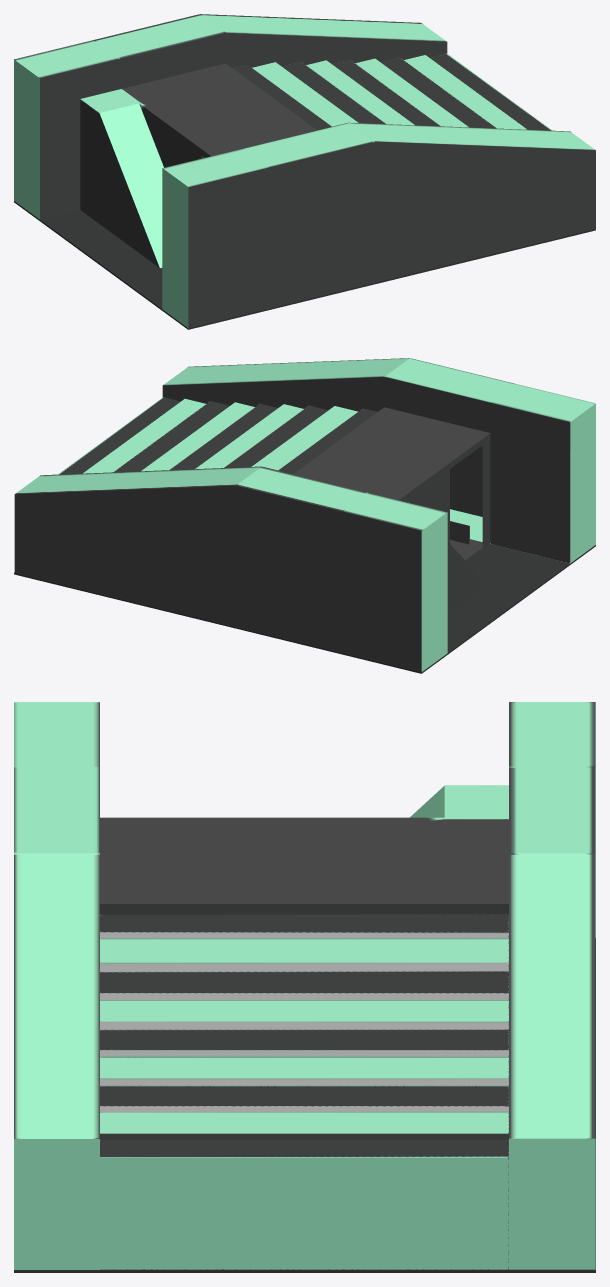
The model's file is Stage_ver2.fbx.
The picture shows the model from 3 angles, top to bottom: view 1: azimuth 30°, elevation 25°; view 2: azimuth 150°, elevation 25°; view 3: azimuth 270°, elevation 25°; orthographic projection. The views are drawn at different scales.
Visible parts, largest first — view 1: Cube, Cube.002, Floor; view 2: Cube, Cube.002, Floor; view 3: Cube.002, Cube, Floor.
Boxes of the visible parts, left/top/right/bottom form: Cube: left=14, top=14, right=595, bottom=328; Cube.002: left=232, top=53, right=551, bottom=130; Floor: left=14, top=201, right=595, bottom=329; Cube: left=14, top=358, right=595, bottom=671; Cube.002: left=58, top=397, right=377, bottom=474; Floor: left=14, top=544, right=595, bottom=673; Cube.002: left=100, top=914, right=508, bottom=1269; Cube: left=14, top=702, right=595, bottom=1269; Floor: left=14, top=938, right=595, bottom=1272.
Bounding box in the file's own units: 3845 × 1288 × 2847.
